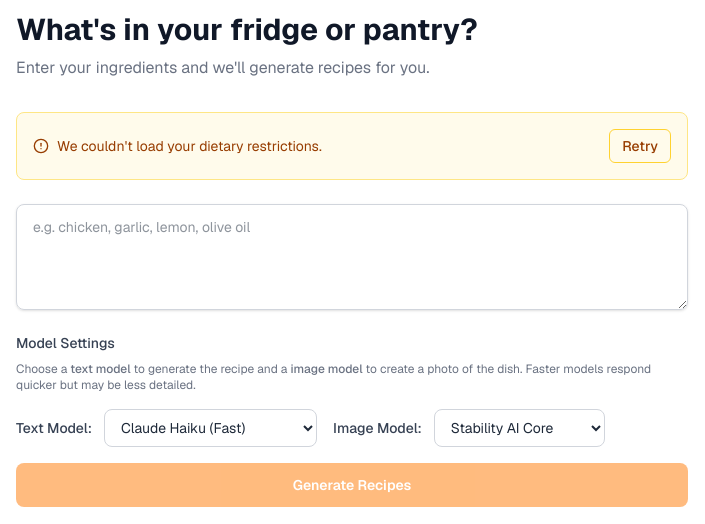
Test: DashboardPage dietary badges › recovers and shows badges when Retry succeeds after a failure
Click the button "Retry".
click(640, 146)  # box top-left (609, 129), bottom-right (671, 163)
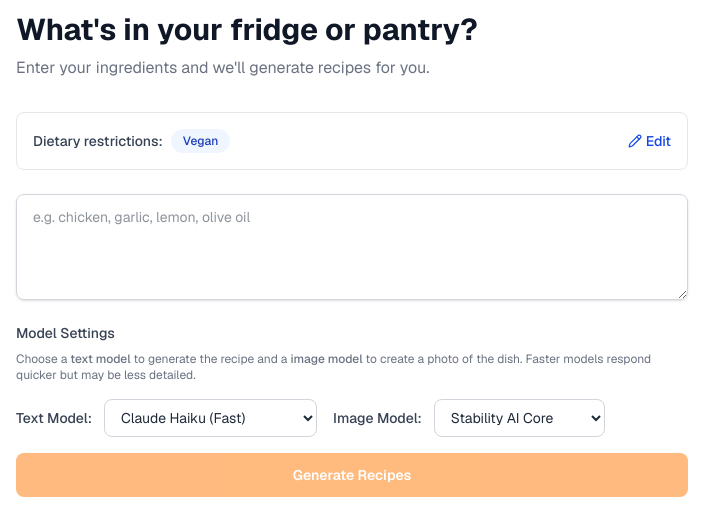
Expected: the text "Vegan" is shown, top-left (171, 129), bottom-right (230, 153)
Expected: the message "We couldn't load your dietary restrictions. Retry" is gone
